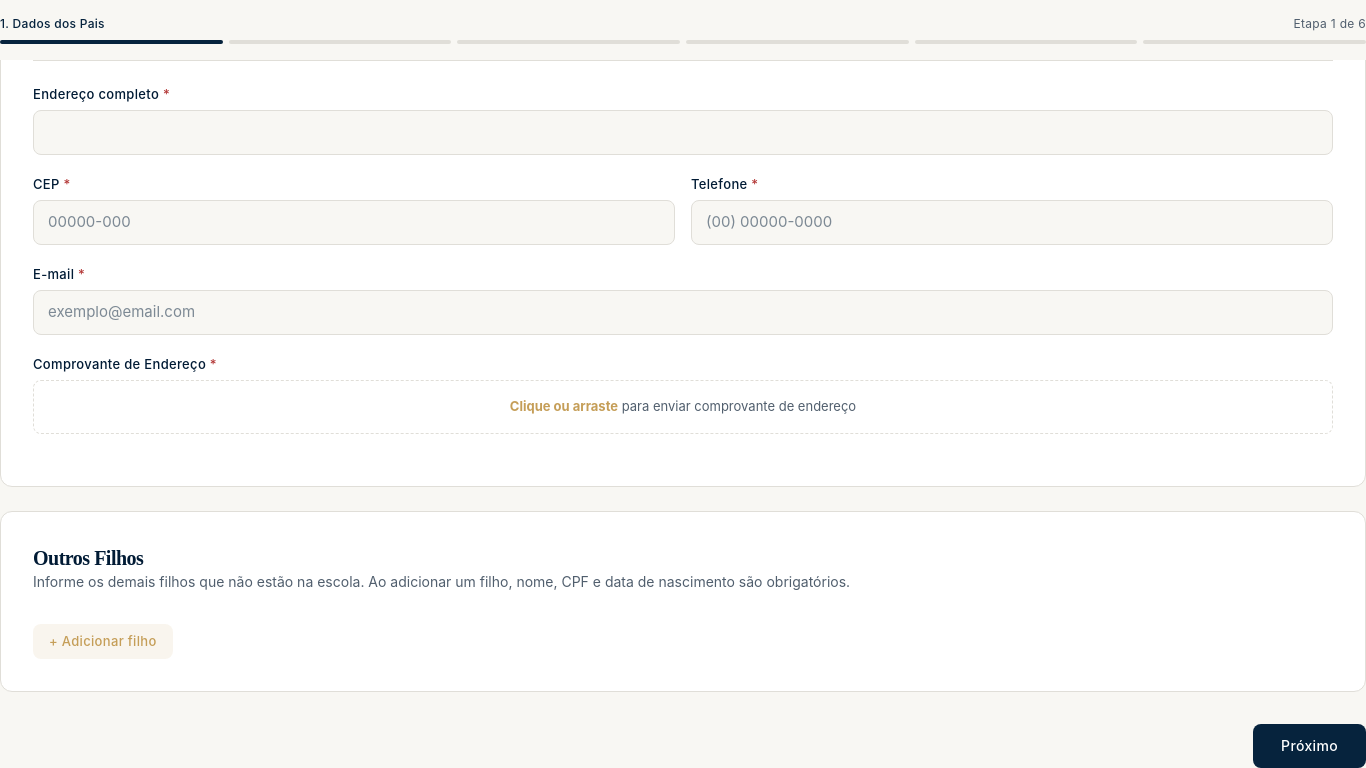
it: ScholarshipForm › step 1 dynamic add/remove for other children
(page scrolled)
Click the button with test id "add-child".
click(103, 641)  # box [33,624,173,659]
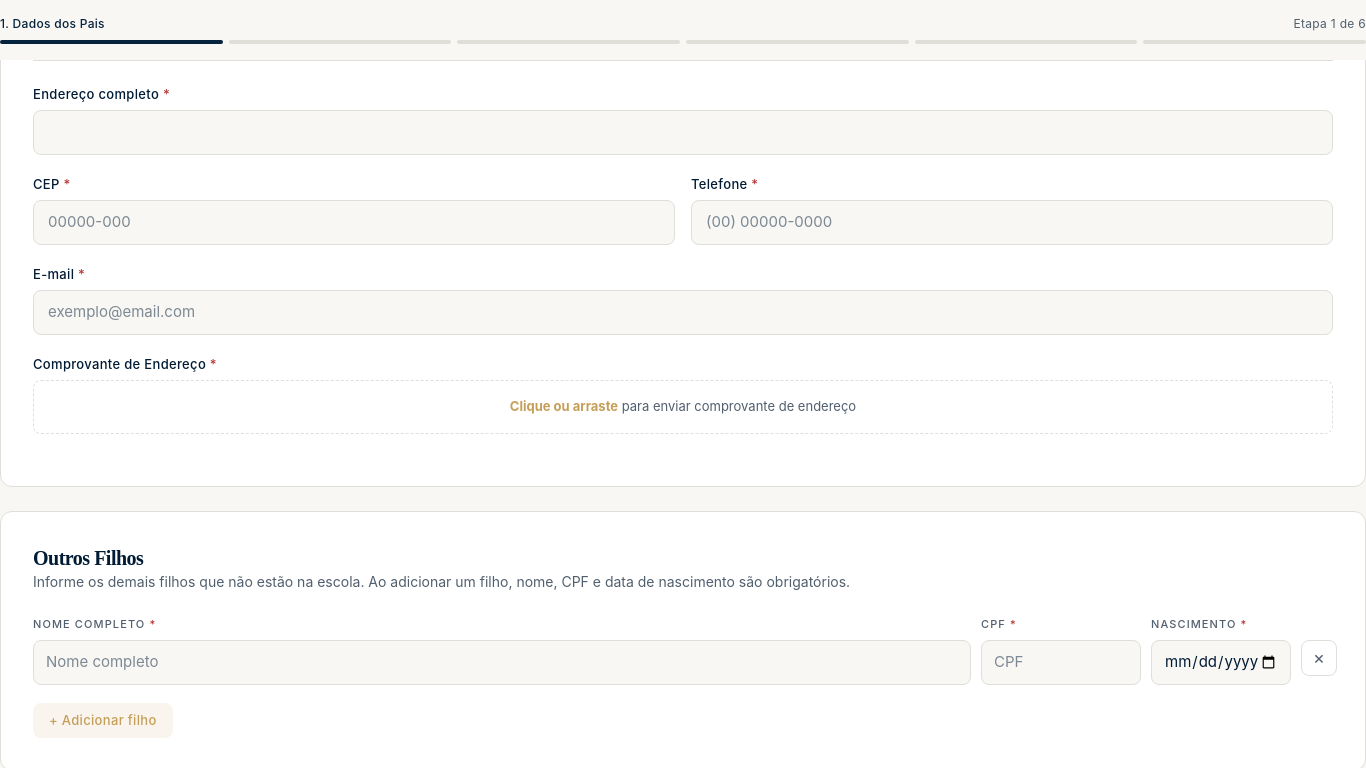
Expected: the button with test id "remove-child" is shown
Click the button with test id "remove-child".
click(1319, 658)  # box [1301,640,1337,676]
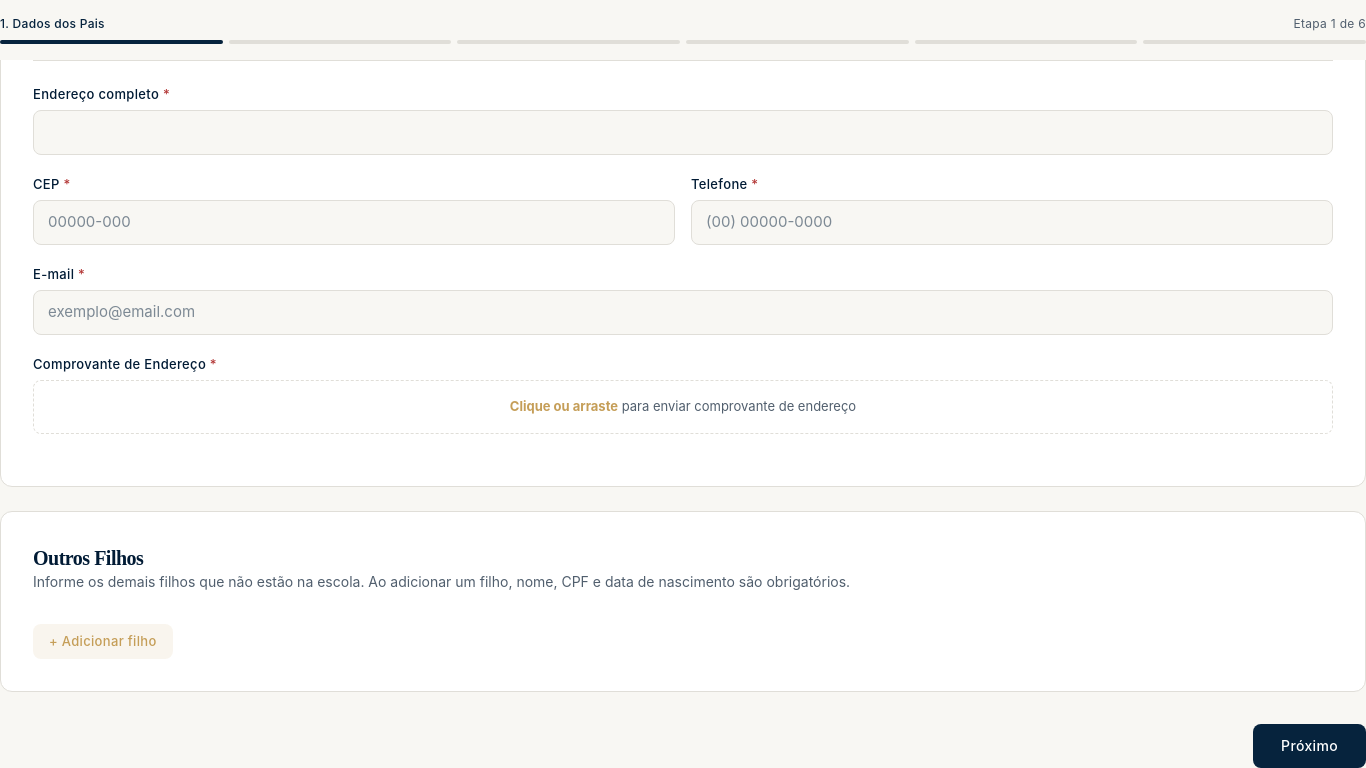
Expected: the button with test id "remove-child" is gone
